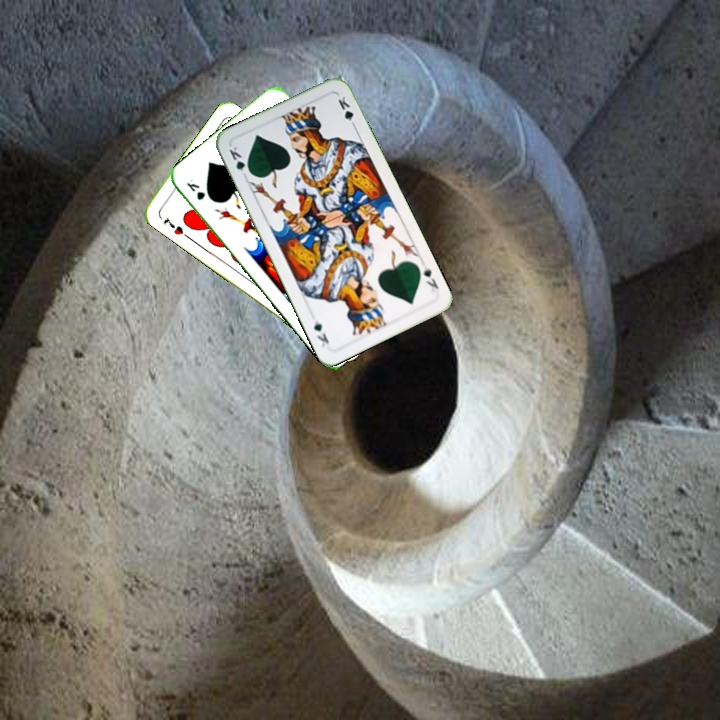GK: (225, 142, 254, 181), (182, 175, 208, 203), (419, 262, 441, 294)
H7: (159, 213, 186, 237)
